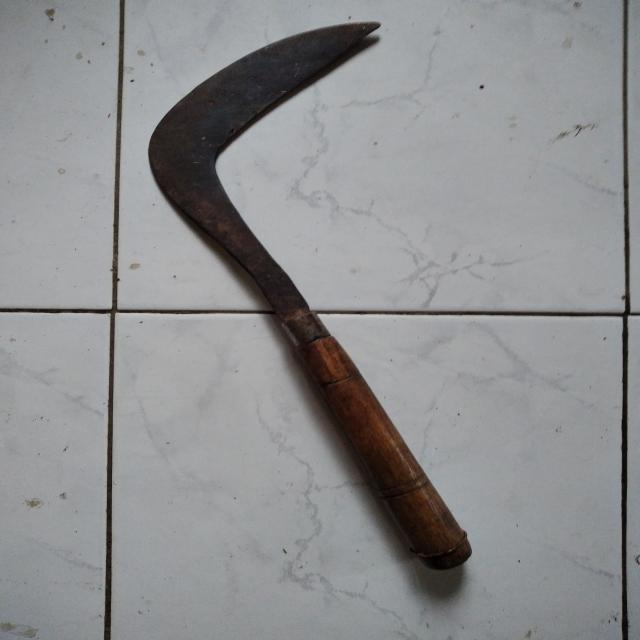Celurit: (147, 22, 487, 573)
